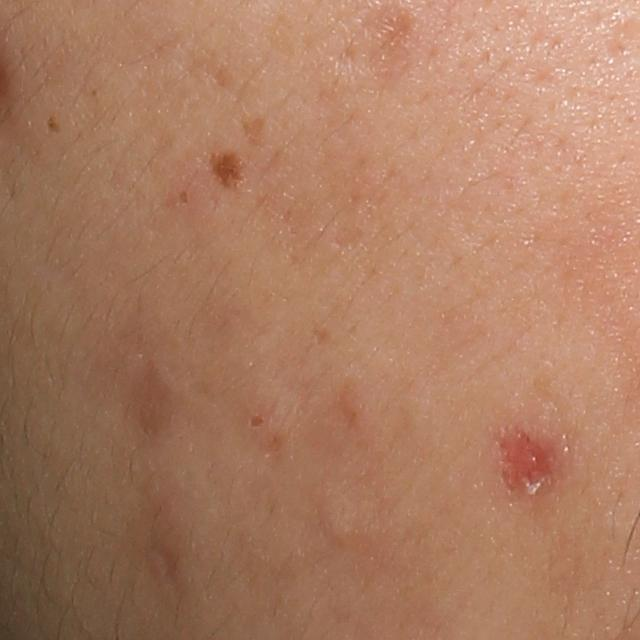atrophic_scar: (349, 3, 424, 84)
comedo: (322, 500, 359, 548)
melasma: (206, 148, 252, 195)
